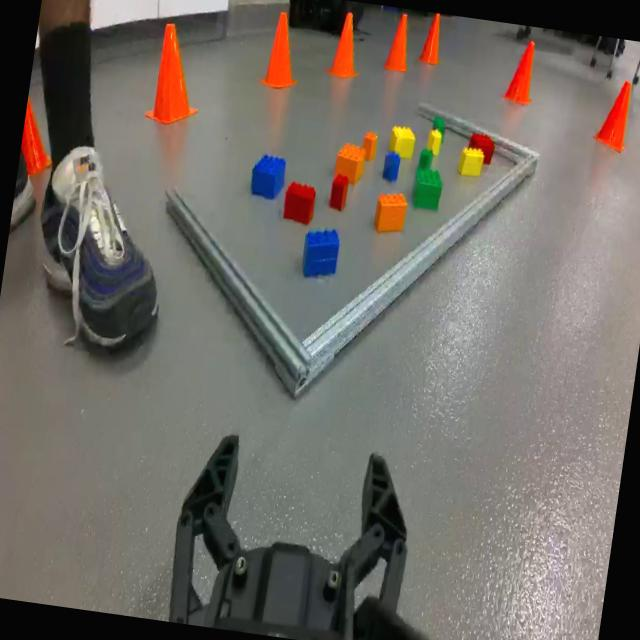block: (388, 125, 416, 160), (458, 148, 484, 178), (426, 130, 442, 157)
blue: (300, 224, 342, 278), (248, 153, 288, 200), (383, 150, 401, 182)
cone: (144, 21, 212, 132), (16, 90, 61, 189), (262, 9, 304, 92), (594, 78, 634, 152), (328, 10, 366, 81), (504, 38, 538, 106), (384, 12, 414, 74), (418, 12, 447, 68)
green: (410, 168, 444, 212), (430, 116, 446, 144), (418, 148, 433, 170)
metal barrier: (165, 98, 541, 399)
orange: (373, 191, 408, 233), (334, 142, 366, 183), (362, 130, 379, 160)
red goal: (282, 182, 316, 224), (467, 133, 495, 165), (328, 173, 348, 210)
